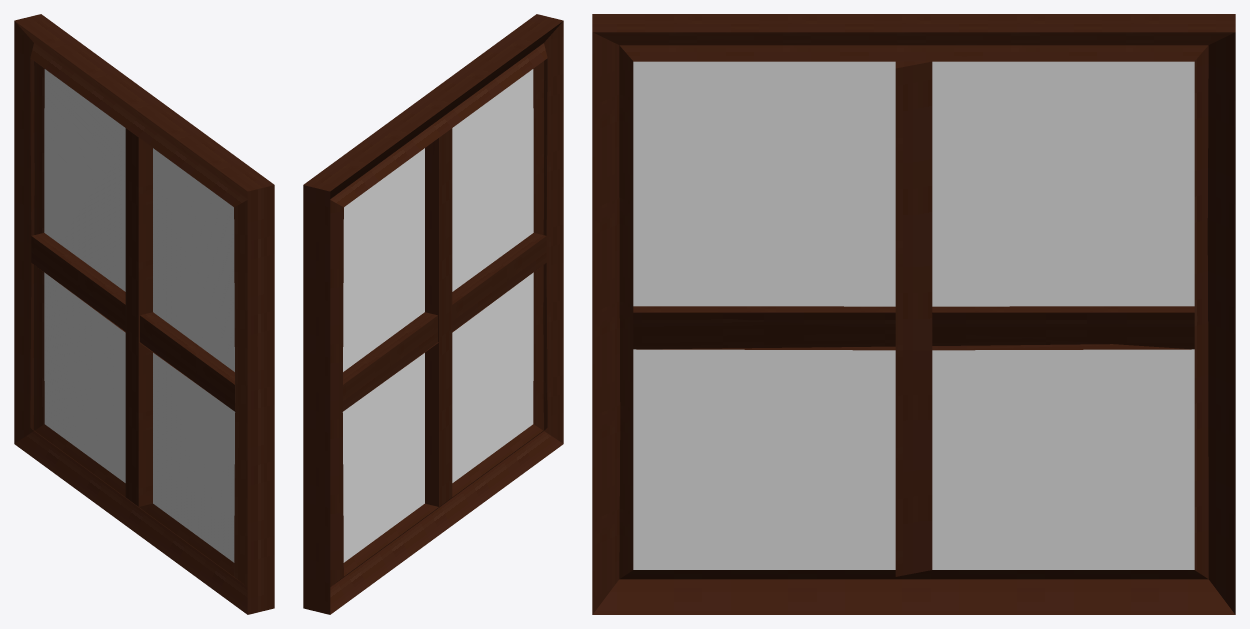
File: window.glb
3 views of the same model, side by side, from view 1: azimuth 30°, elevation 25°; view 2: azimuth 150°, elevation 25°; view 3: azimuth 270°, elevation 25° (orthographic). The views are drawn at different scales.
Parts seen in each view (by area): view 1: window; view 2: window; view 3: window.
Part boxes in pixels (x1=…): window: x1=14, y1=14, x2=274, y2=614; window: x1=303, y1=14, x2=563, y2=614; window: x1=592, y1=14, x2=1235, y2=614.
Bounding box in the file's own units: 0.1338 × 2 × 2.
2 materials, 1 textured.
